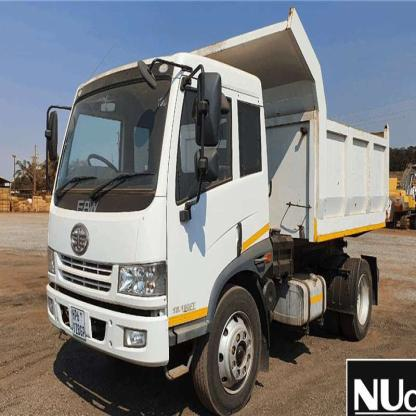dump_truck: (35, 7, 389, 413)
